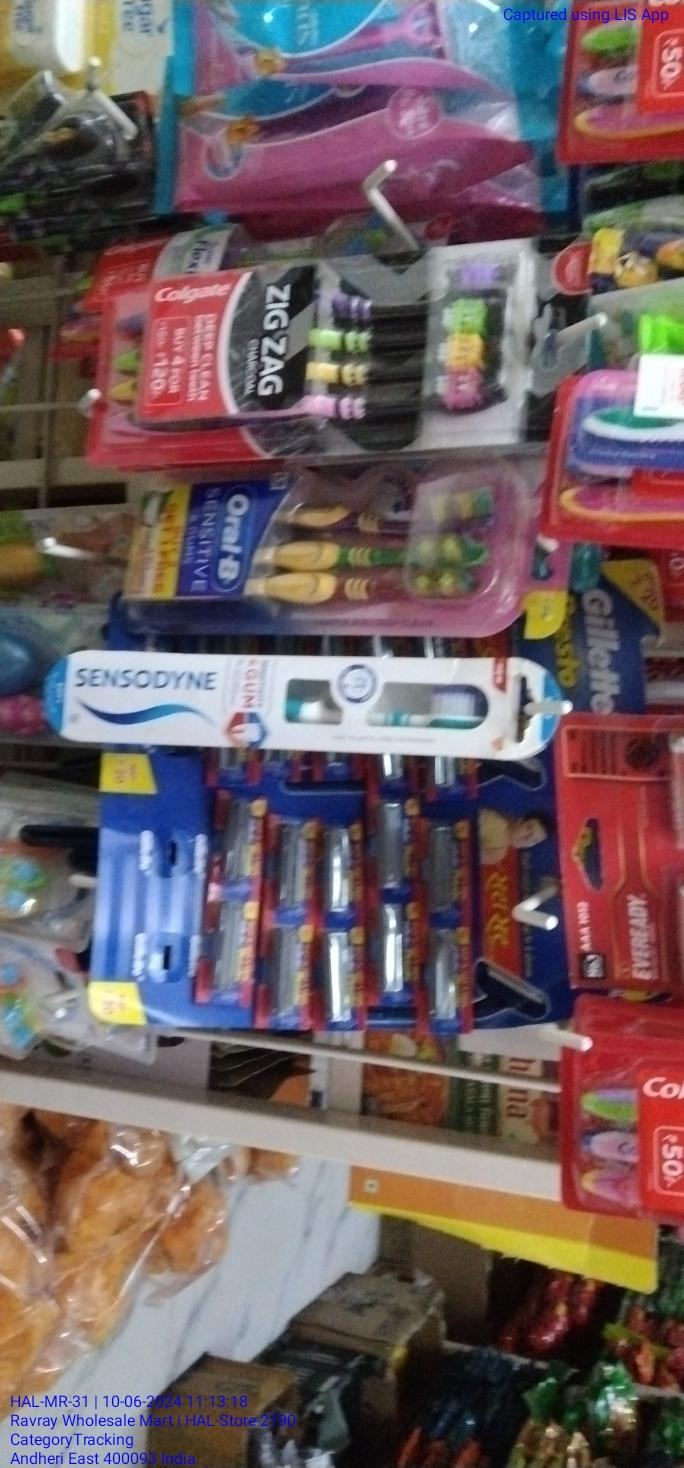liquid soap: (111, 209, 211, 1285)
